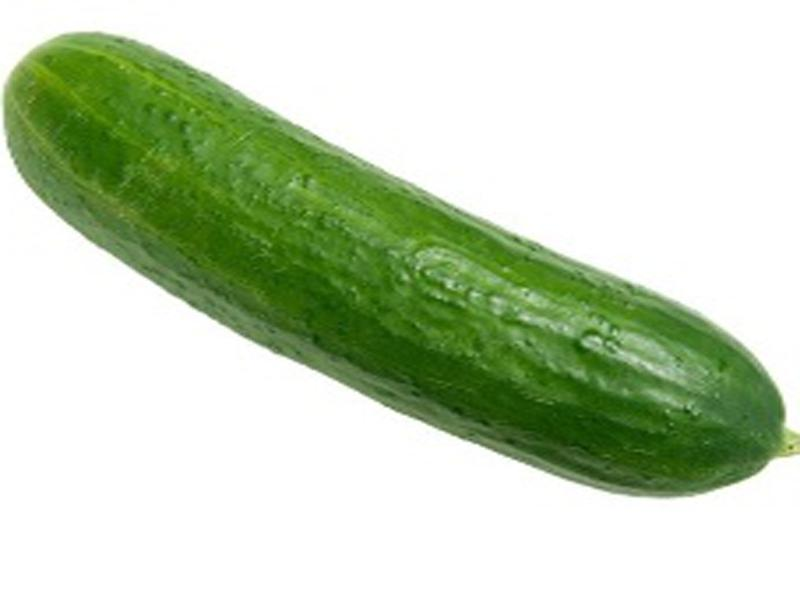Cucumber: (3, 34, 795, 500)
